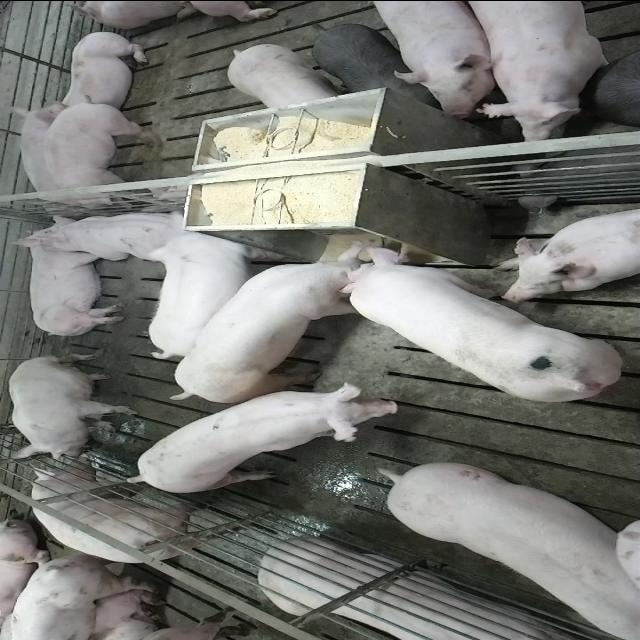Feeding: (336, 240, 624, 405), (161, 241, 383, 408)
Lateral_lying: (11, 215, 129, 338)
Sitting: (8, 353, 138, 462)
Standing: (375, 456, 636, 635), (128, 384, 402, 492), (464, 2, 626, 142), (29, 459, 236, 562), (145, 234, 267, 360), (367, 2, 495, 116), (41, 99, 163, 211), (307, 20, 443, 106), (0, 564, 152, 640), (226, 42, 346, 110)
Sternal_lying: (260, 540, 595, 640), (495, 203, 640, 296), (42, 207, 229, 274), (53, 28, 153, 112), (18, 99, 78, 190)
